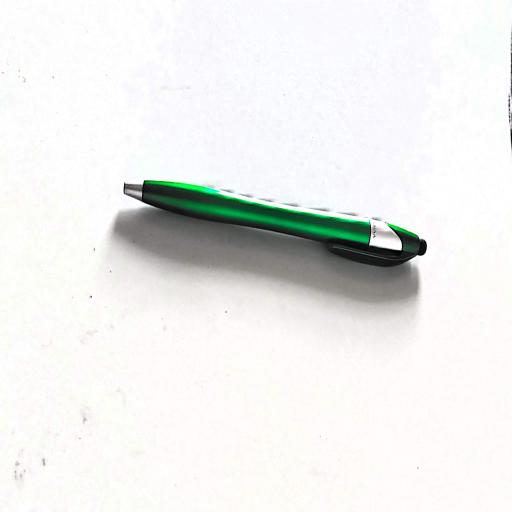pen: (124, 181, 426, 266)
